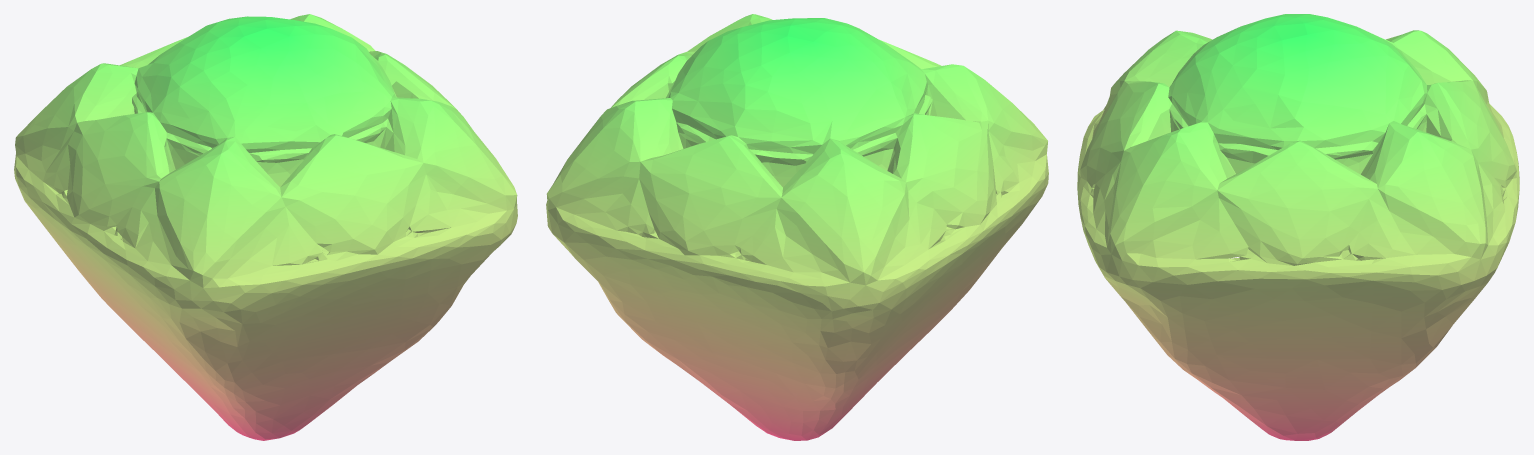
Rendered from 55_cyb_laser_gradient_fish_scales_2868_2026_10_03_1cbb97.glb.
3 renders of one model, left to right at view 1: azimuth 30°, elevation 25°; view 2: azimuth 150°, elevation 25°; view 3: azimuth 270°, elevation 25°, orthographic.
Parts seen in each view (by area): view 1: geometry_0; view 2: geometry_0; view 3: geometry_0.
Boxes of the visible parts, x1,y1,x2,y2 form: geometry_0: (14,14,517,440); geometry_0: (546,14,1048,440); geometry_0: (1077,14,1519,440).
Size of the model in its own units: 1 by 1 by 1.
